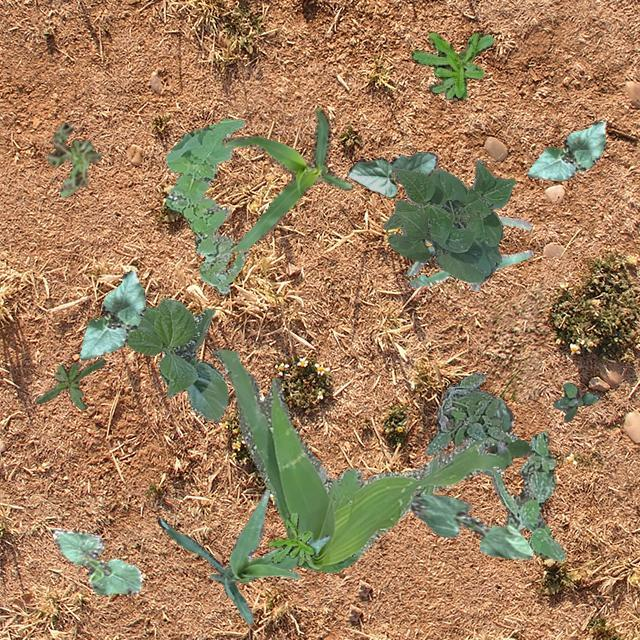crop: (156, 488, 328, 622), (220, 108, 352, 252), (382, 158, 514, 282), (125, 296, 226, 419), (406, 216, 532, 290), (409, 492, 532, 558), (78, 268, 144, 359), (52, 528, 142, 594), (525, 120, 605, 180), (346, 150, 436, 197)
weed: (214, 348, 516, 572), (165, 118, 248, 294), (490, 430, 564, 560), (424, 372, 502, 454), (411, 31, 494, 98), (46, 120, 101, 196), (480, 396, 530, 474), (34, 356, 104, 408), (268, 510, 314, 564), (552, 382, 596, 421)
